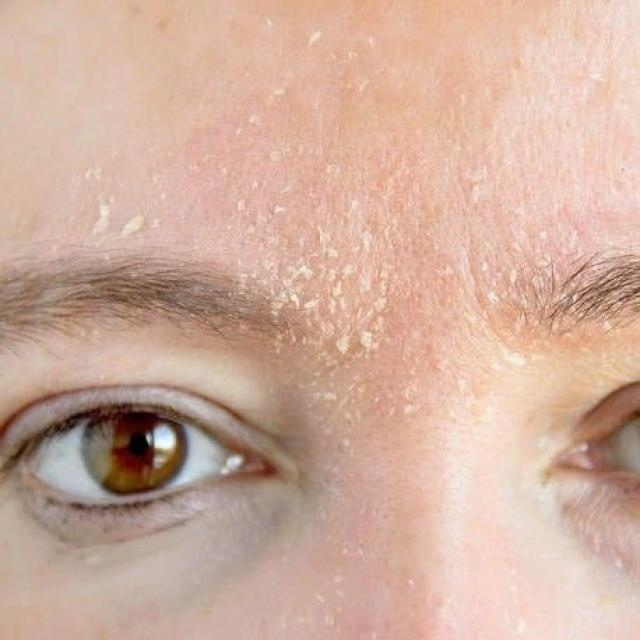Dry-Skin: (54, 14, 640, 640)
